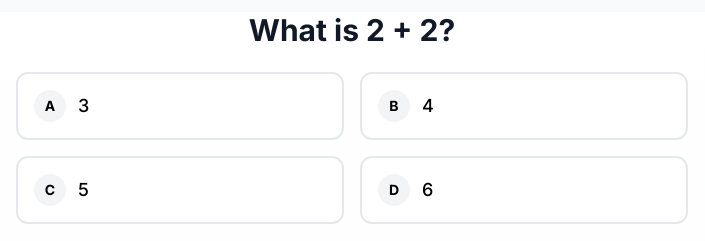
MultipleChoice › disables all options after an answer is selected
Click the text "4" at (428, 106), box [422, 92, 434, 120]
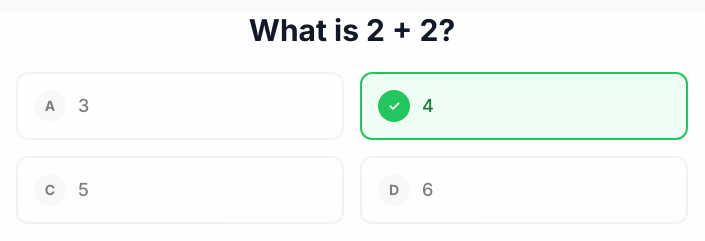
Expected: the button "A 3" is disabled, [16, 72, 344, 140]
Expected: the button "✓ 4" is disabled, [360, 72, 688, 140]
Expected: the button "C 5" is disabled, [16, 156, 344, 224]
